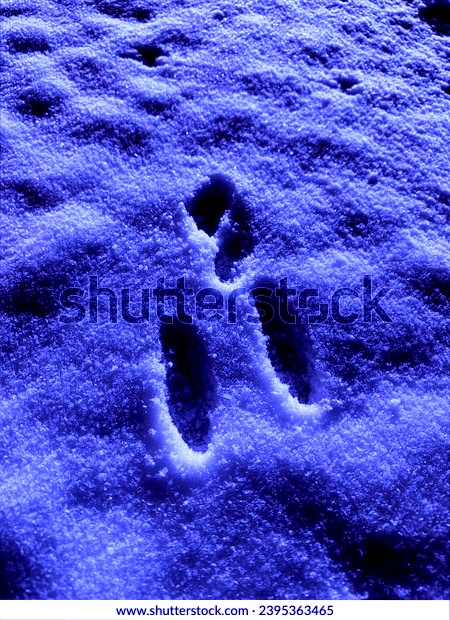lapin: (146, 295, 229, 466), (246, 275, 325, 422), (175, 156, 265, 283)
